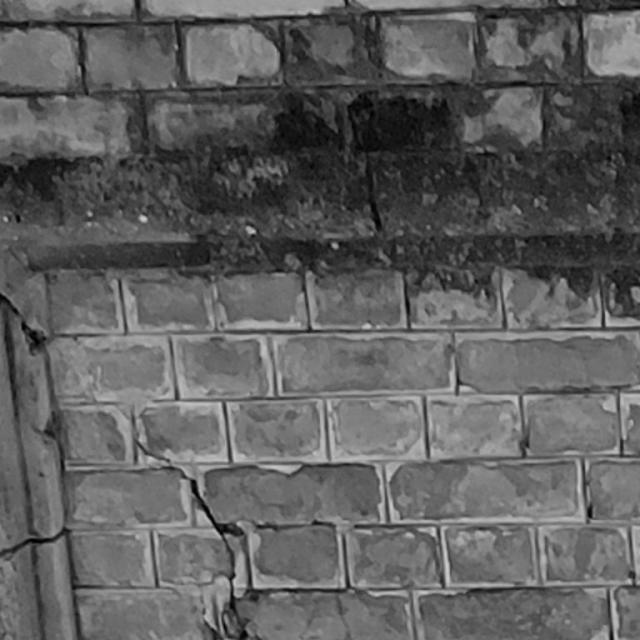crack: (135, 439, 253, 640)
